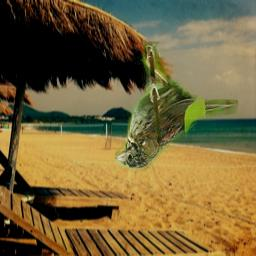Sparrow: (115, 41, 238, 171)
